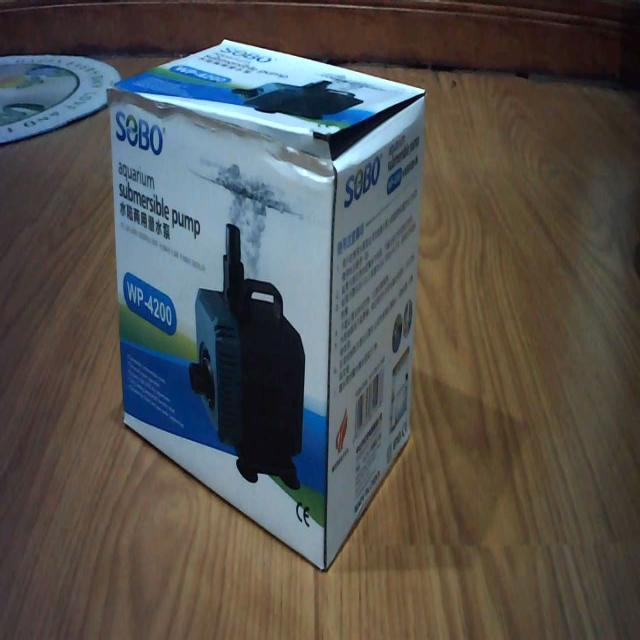SOBO_WP_4200: (103, 29, 429, 577)
